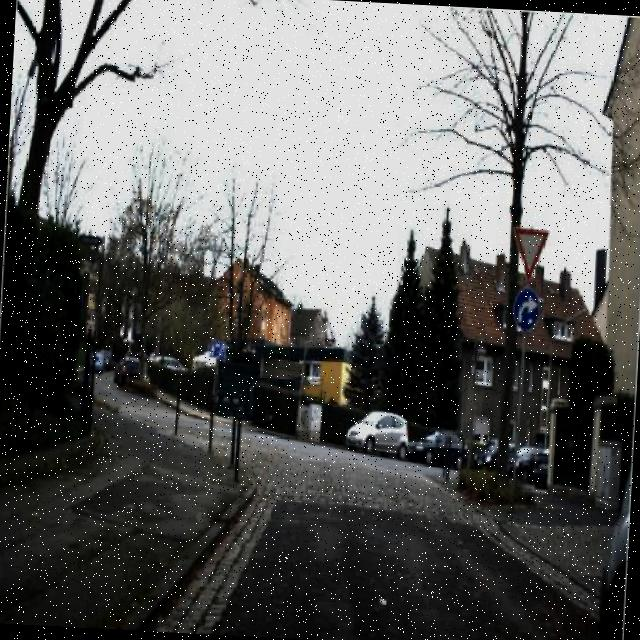Ustap pierwszenstwa: (509, 222, 551, 284)
